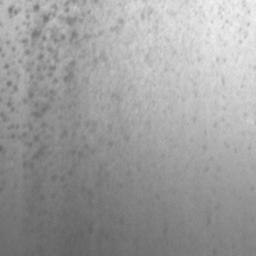Pitted surface: (0, 0, 194, 168), (185, 0, 256, 47), (212, 52, 240, 67), (241, 65, 256, 88), (111, 93, 120, 102)
